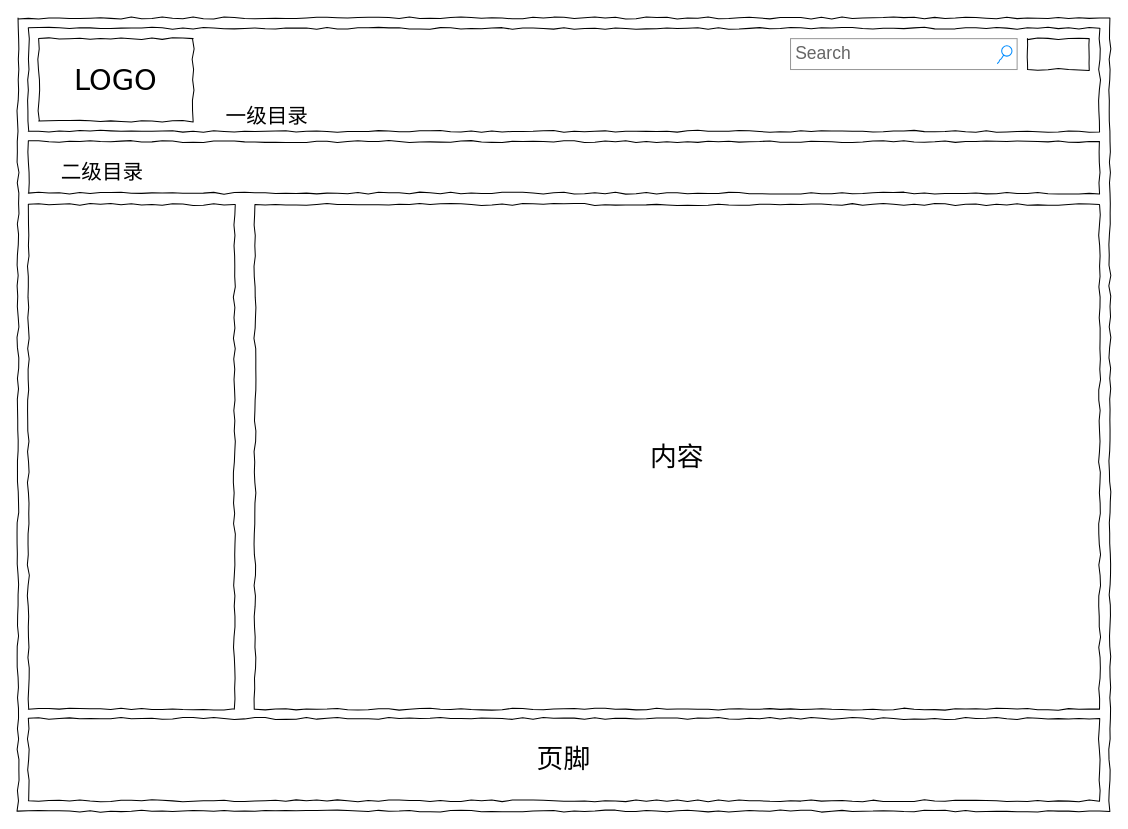
This 1128x829 diagram has some shape labels left out. Each missing label, with the centre of its shape:
"Login" belongs at point (1057, 54).
"功能菜单" belongs at point (130, 456).
